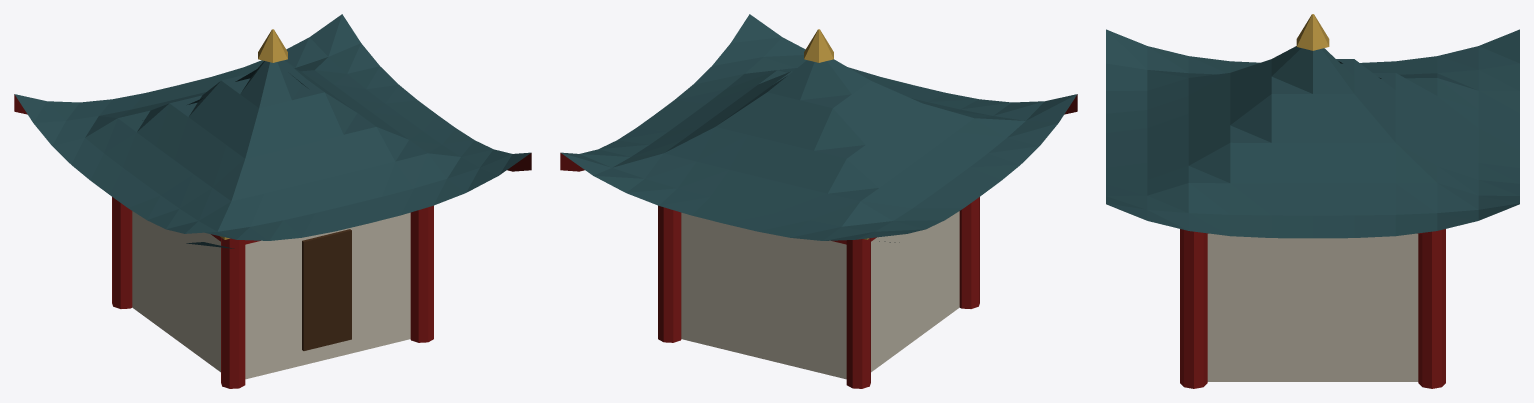
Rendered from pagoda-tier-small.glb.
The picture shows the model from 3 angles, left to right: view 1: azimuth 30°, elevation 25°; view 2: azimuth 150°, elevation 25°; view 3: azimuth 270°, elevation 25°; orthographic projection. The views are drawn at different scales.
Visible parts, largest first — view 1: pagoda-tier-small; view 2: pagoda-tier-small; view 3: pagoda-tier-small.
Boxes of the visible parts, x1,y1,x2,y2 form: pagoda-tier-small: [14, 14, 531, 388]; pagoda-tier-small: [560, 14, 1077, 388]; pagoda-tier-small: [1106, 14, 1519, 388].
Size of the model in its own units: 6.6 by 5.6 by 6.6.
